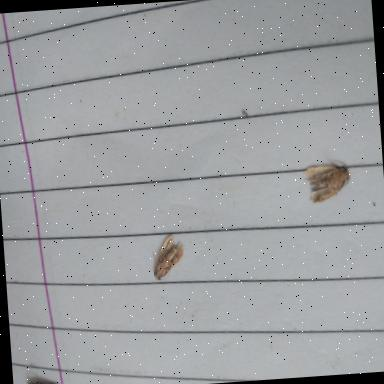pbw: (302, 158, 351, 203), (150, 234, 184, 280), (25, 376, 53, 384)
